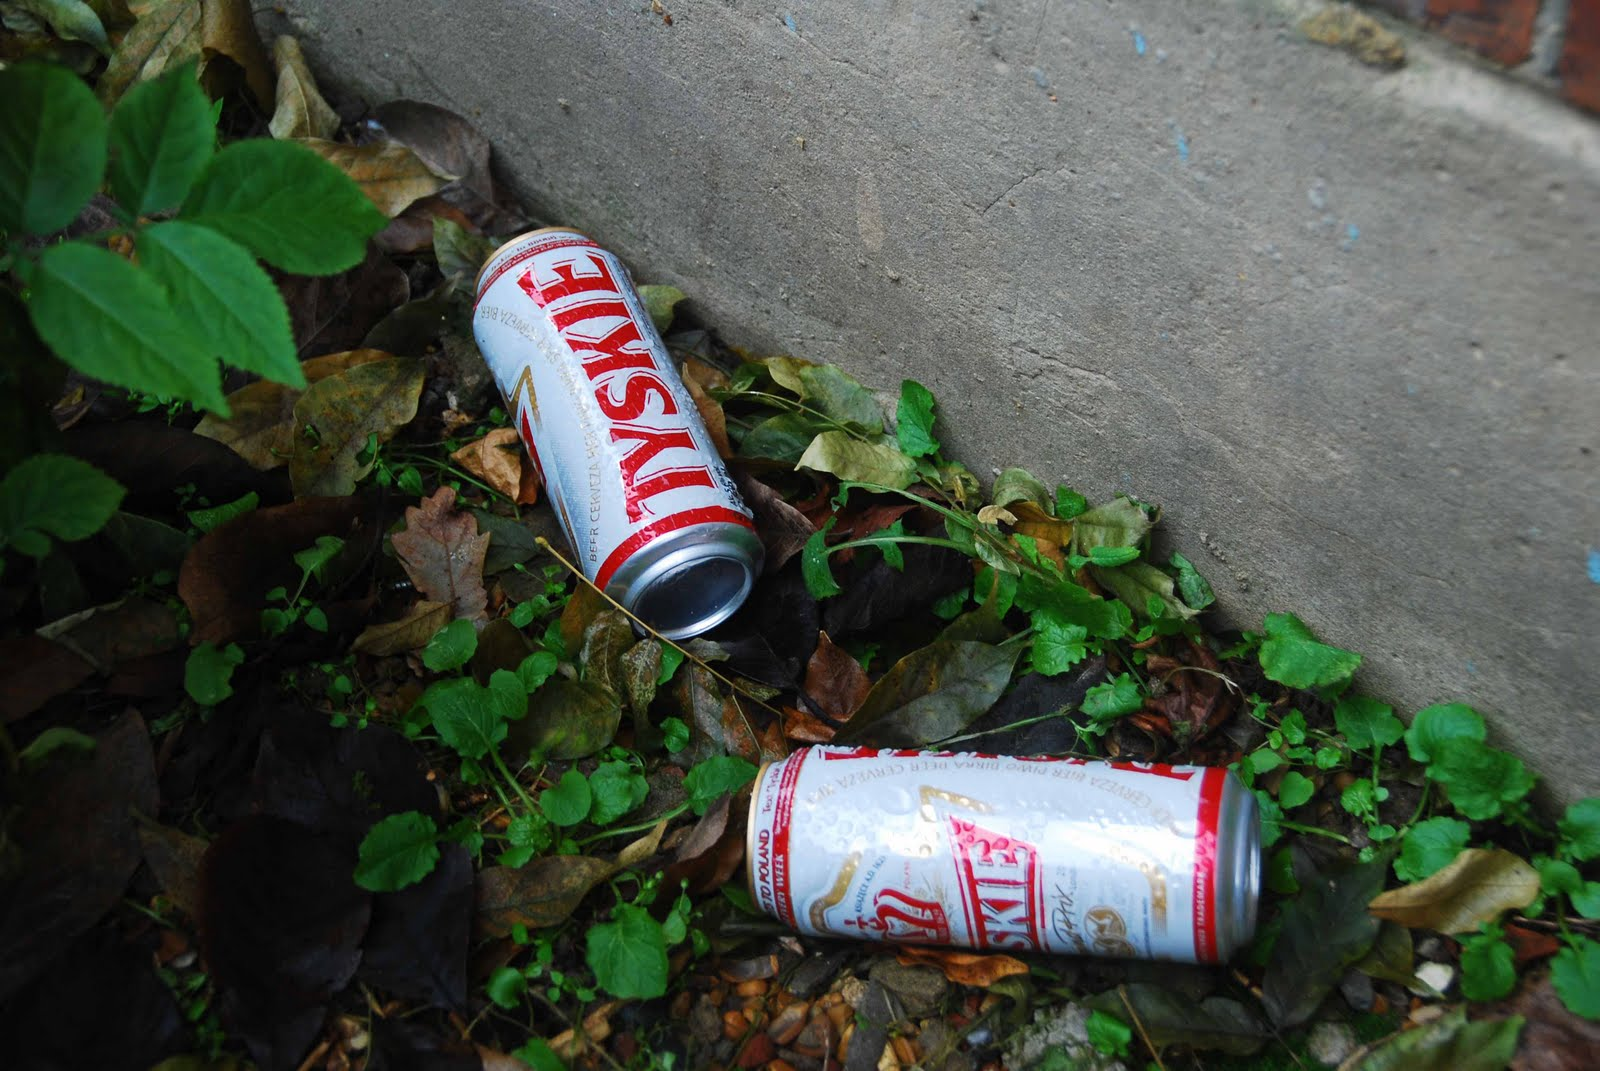can: (468, 210, 771, 660), (735, 735, 1276, 967)
